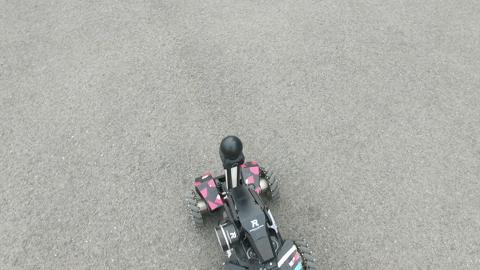chariot: (185, 134, 314, 270)
